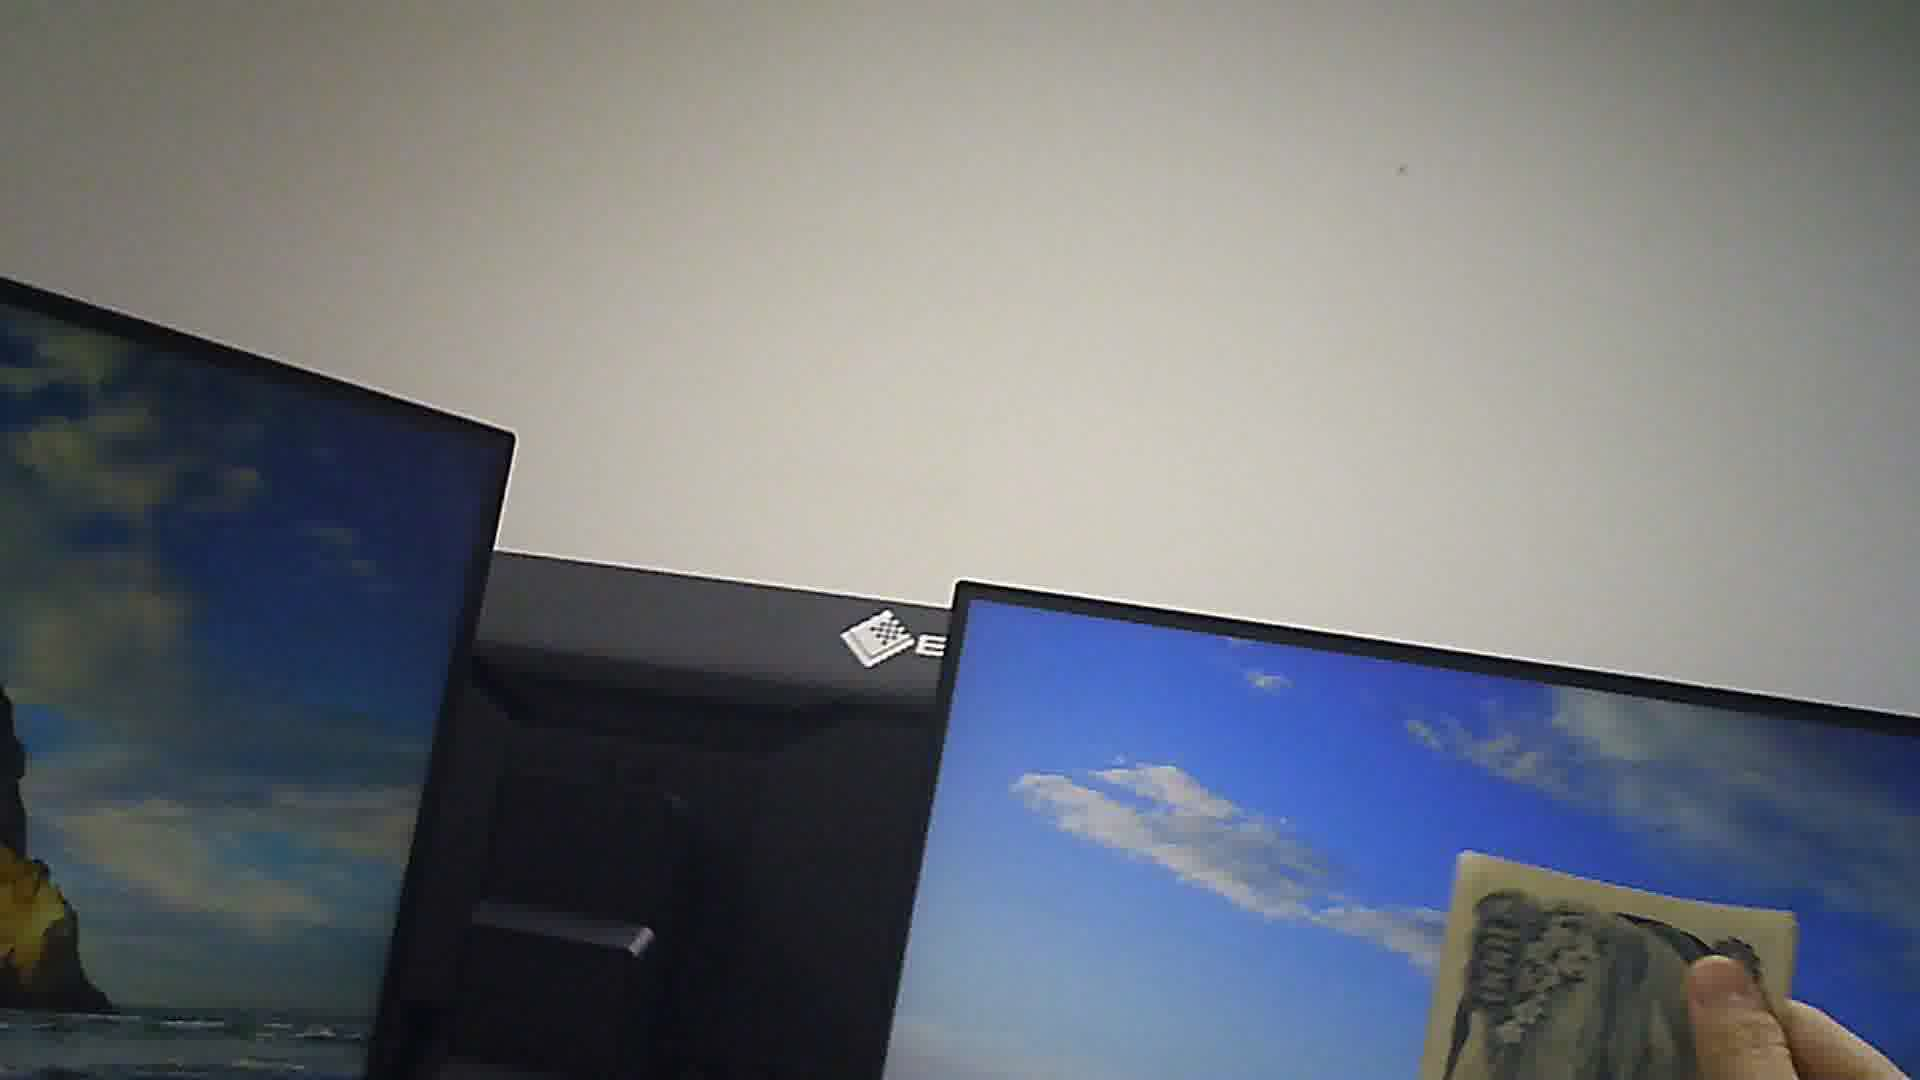1,000 Yen: (1441, 837, 1805, 1075)
